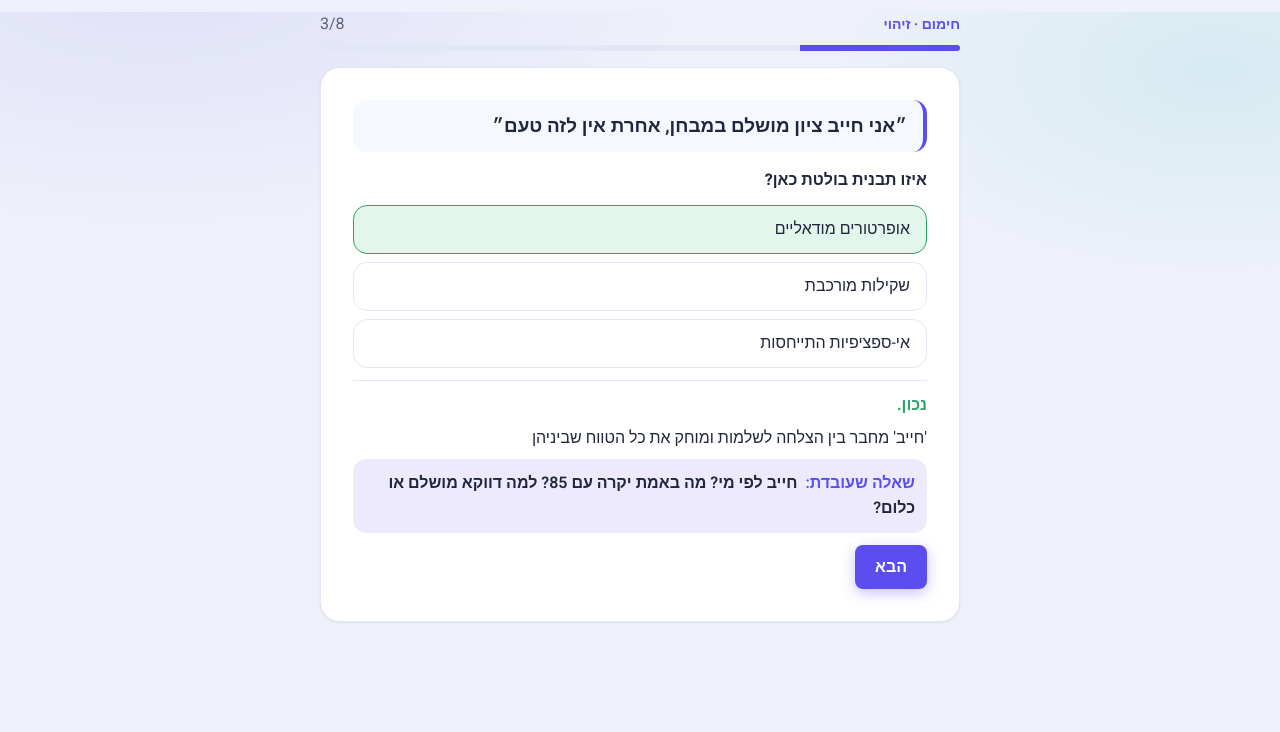
DailySetPage › shows the model question only after the learner writes or asks to see it
The image size is (1280, 732).
Earlier steps of the test are not shown.
Click the button "הבא" at (891, 567), box [855,545,927,589]
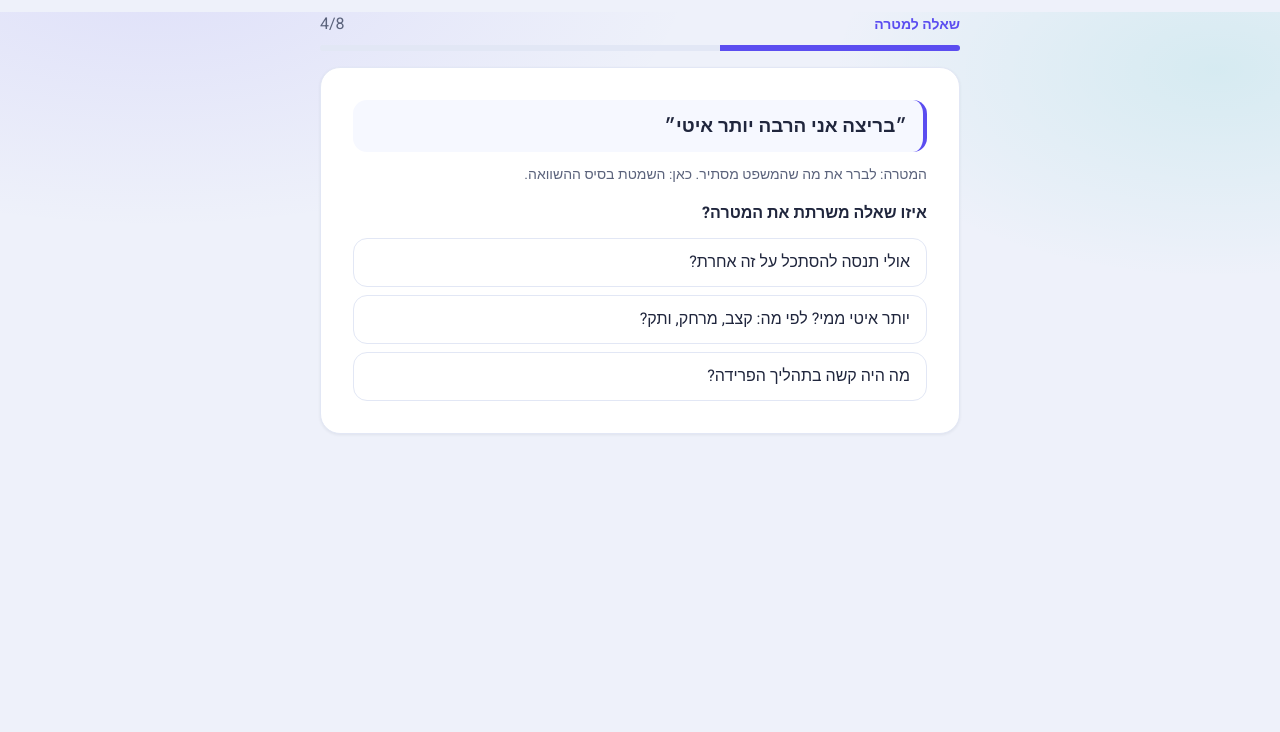
Click the button with class "daily-option" showing "אולי תנסה להסתכל על זה אחרת?" at (800, 262), box [353,238,927,287]
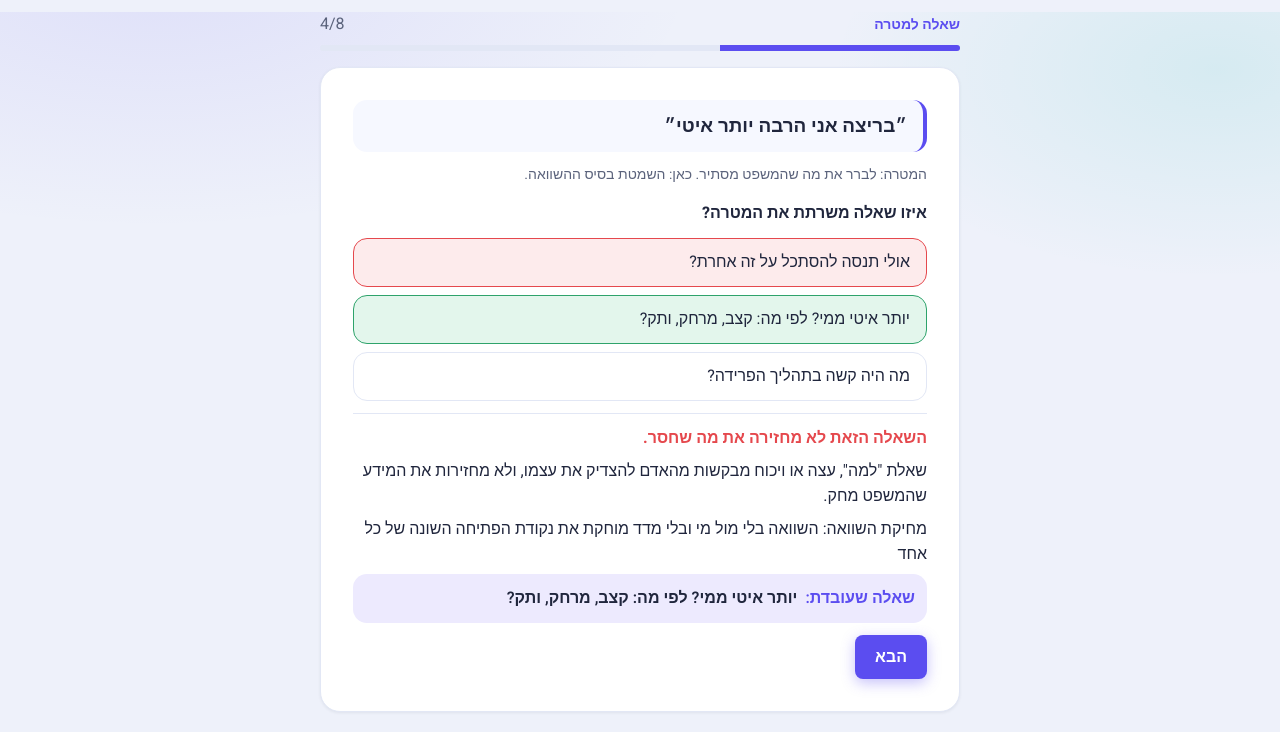
Click the button "הבא" at (891, 657), box [855,635,927,679]
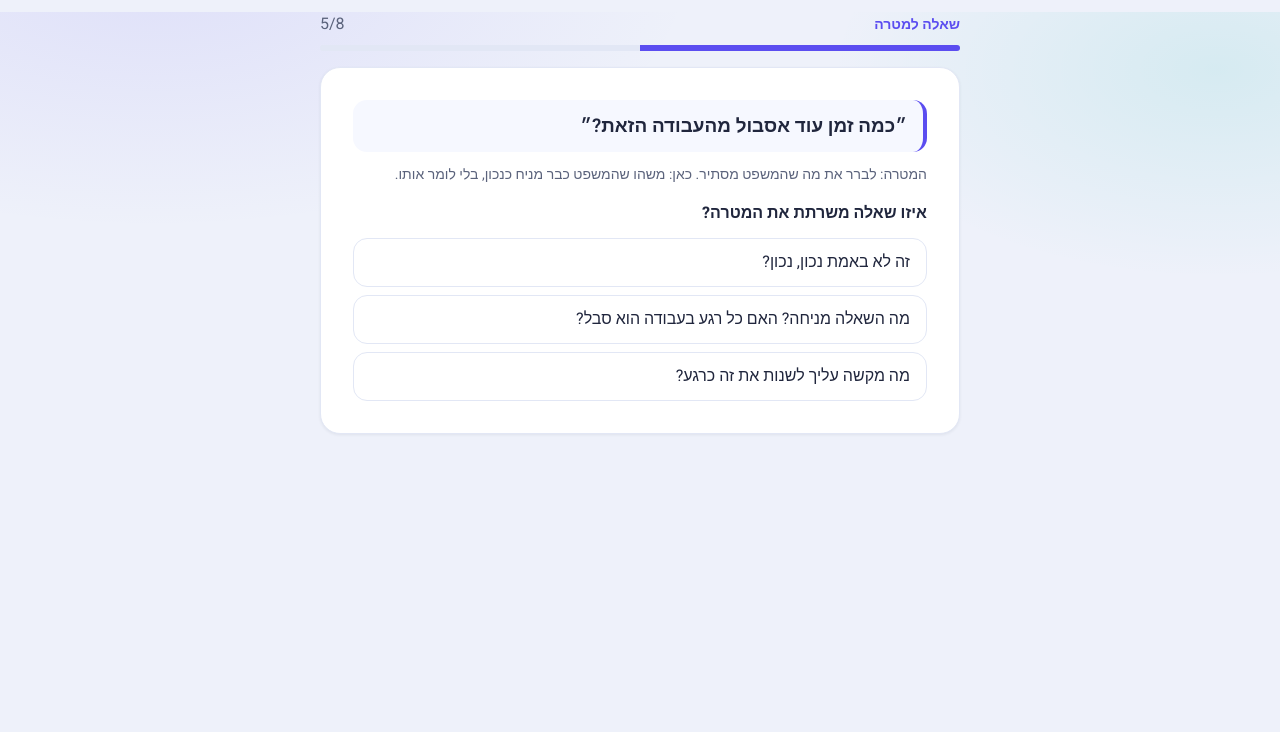
Click the button with class "daily-option" showing "זה לא באמת נכון, נכון?" at (836, 262), box [353,238,927,287]
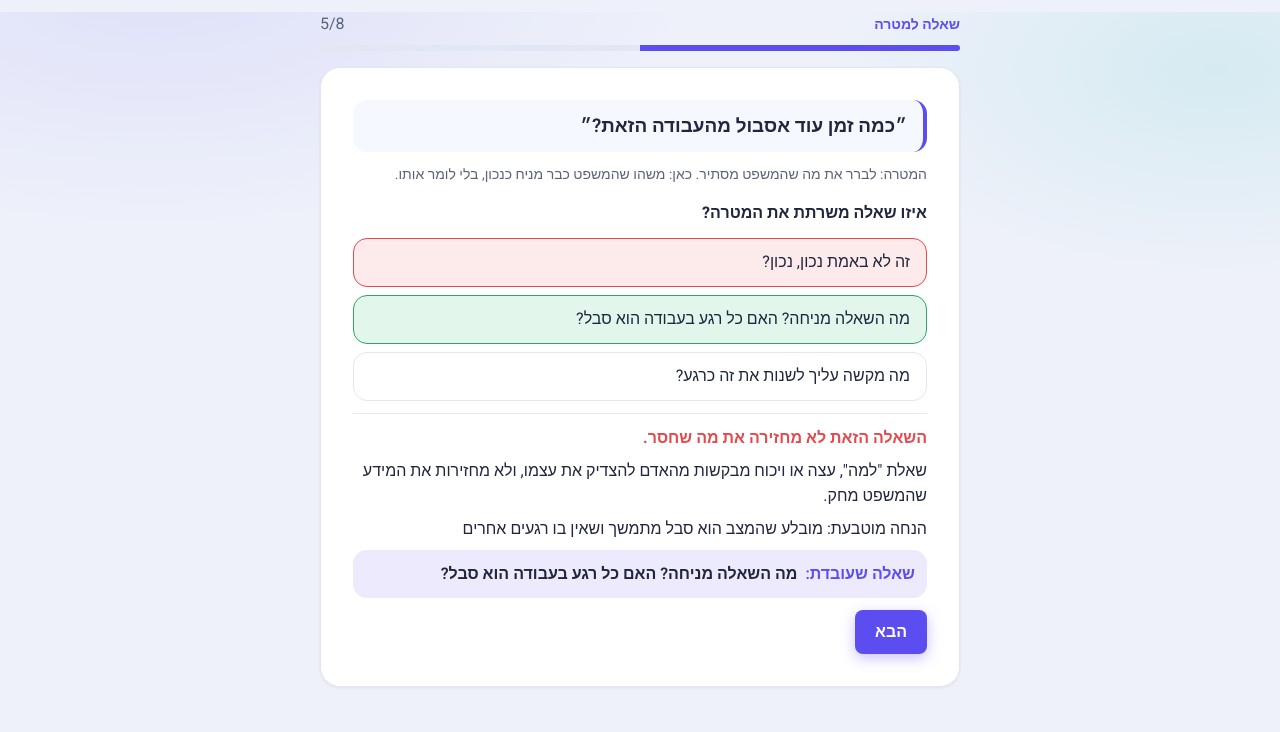
Click the button "הבא" at (891, 632), box [855,610,927,654]
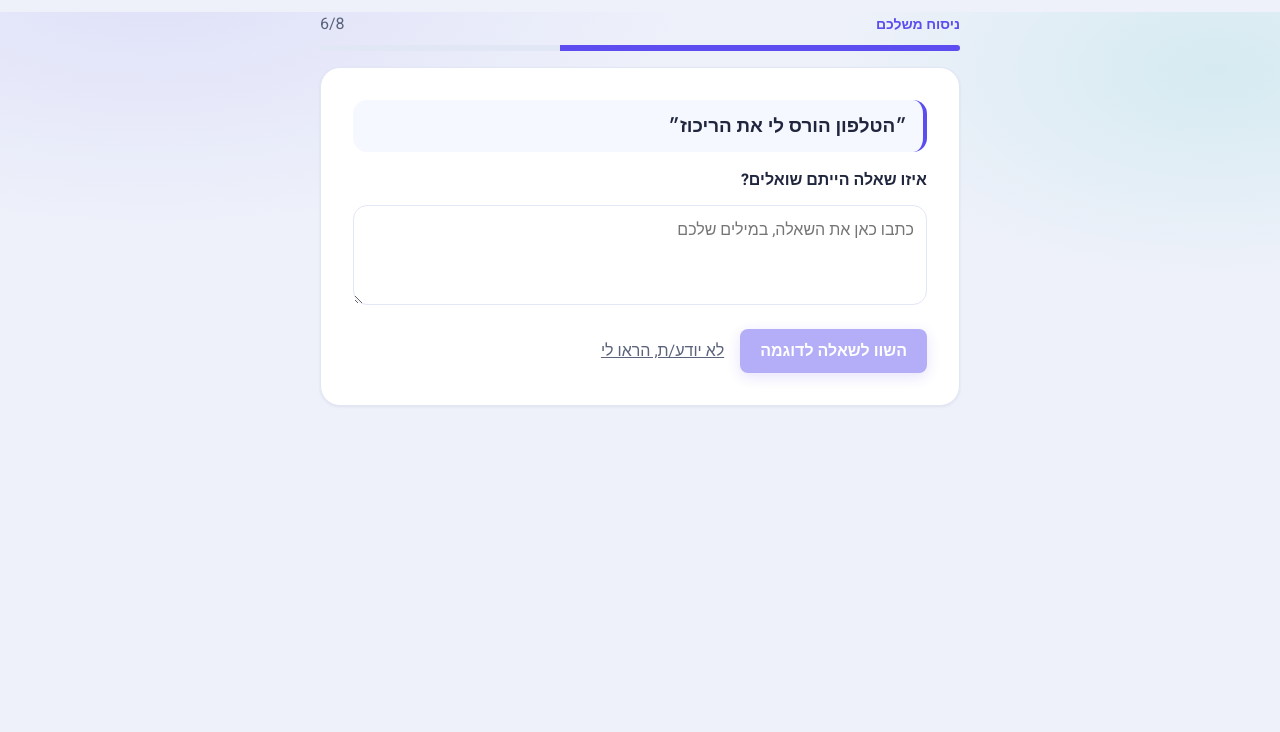
Expected: the text "שאלה לדוגמה:" is not shown
Now the button "השוו לשאלה לדוגמה" is disabled, box [740,329,927,373]
Click the button "לא יודע/ת, הראו לי" at (663, 351), box [593,329,732,373]
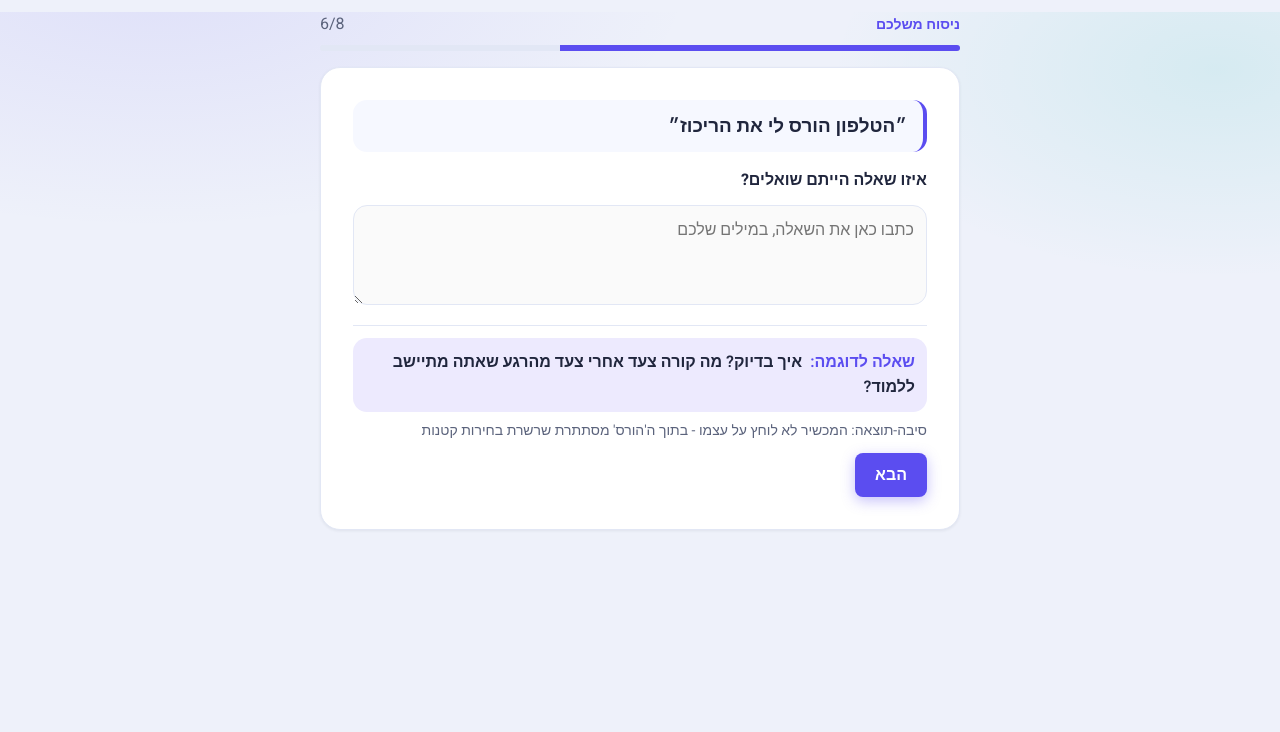
Now the text "שאלה לדוגמה:" is shown, box [810,350,915,374]
